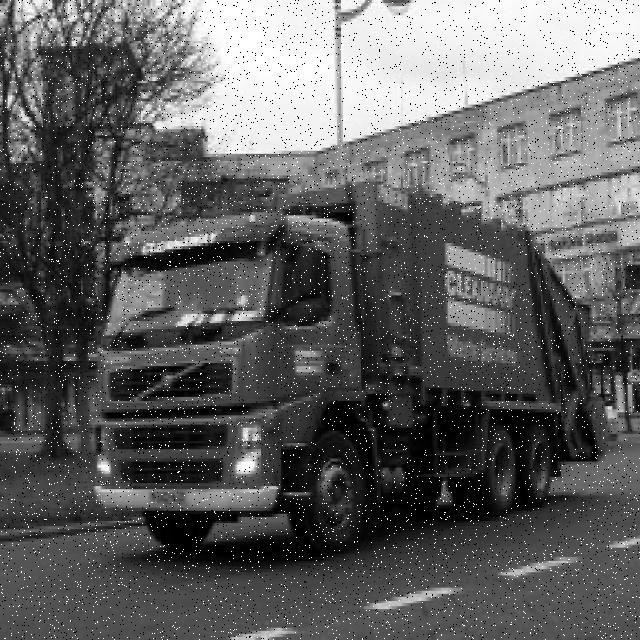Garbage Truck: (93, 178, 612, 558)
